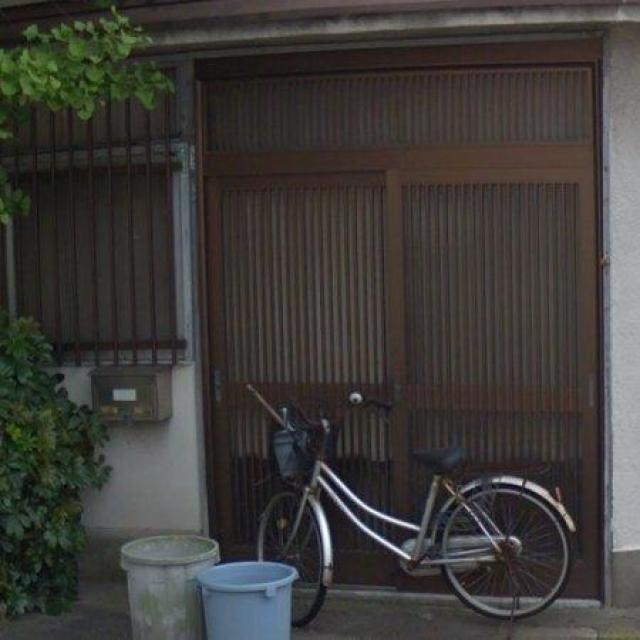bicycle: (247, 387, 577, 629)
